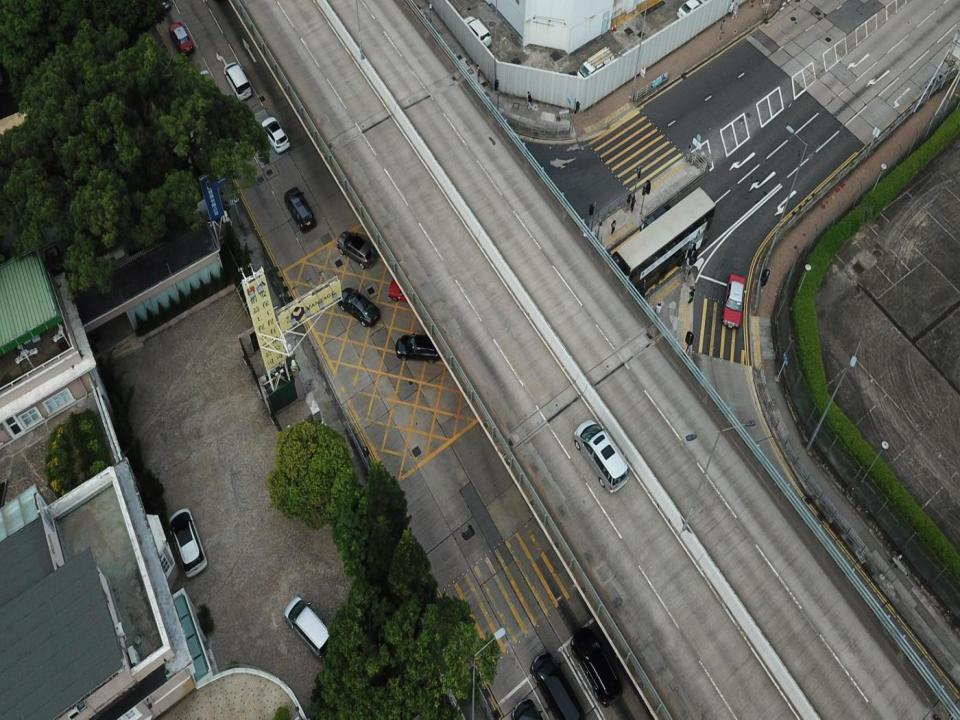bus: (602, 187, 714, 296)
car: (571, 626, 624, 705), (169, 508, 207, 579), (334, 288, 380, 329), (284, 185, 316, 236), (394, 334, 446, 362), (338, 229, 375, 267), (389, 273, 434, 304), (722, 273, 744, 328), (261, 116, 289, 155), (461, 14, 491, 48), (169, 22, 196, 56), (513, 698, 542, 719), (678, 0, 710, 19)
van: (573, 418, 630, 494), (530, 651, 587, 719), (284, 598, 336, 658), (576, 48, 617, 88), (223, 58, 252, 100)
